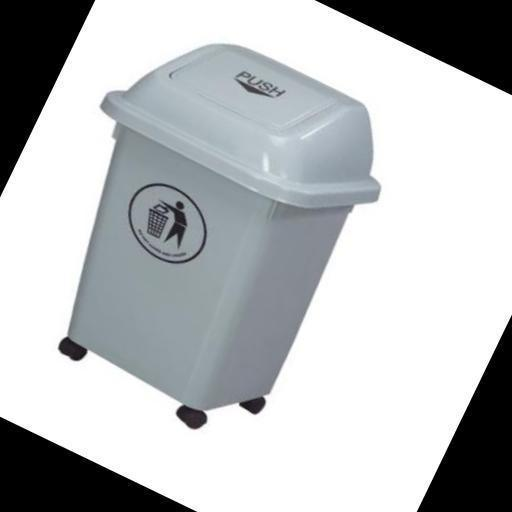Bote de Basura: (0, 0, 423, 461)
